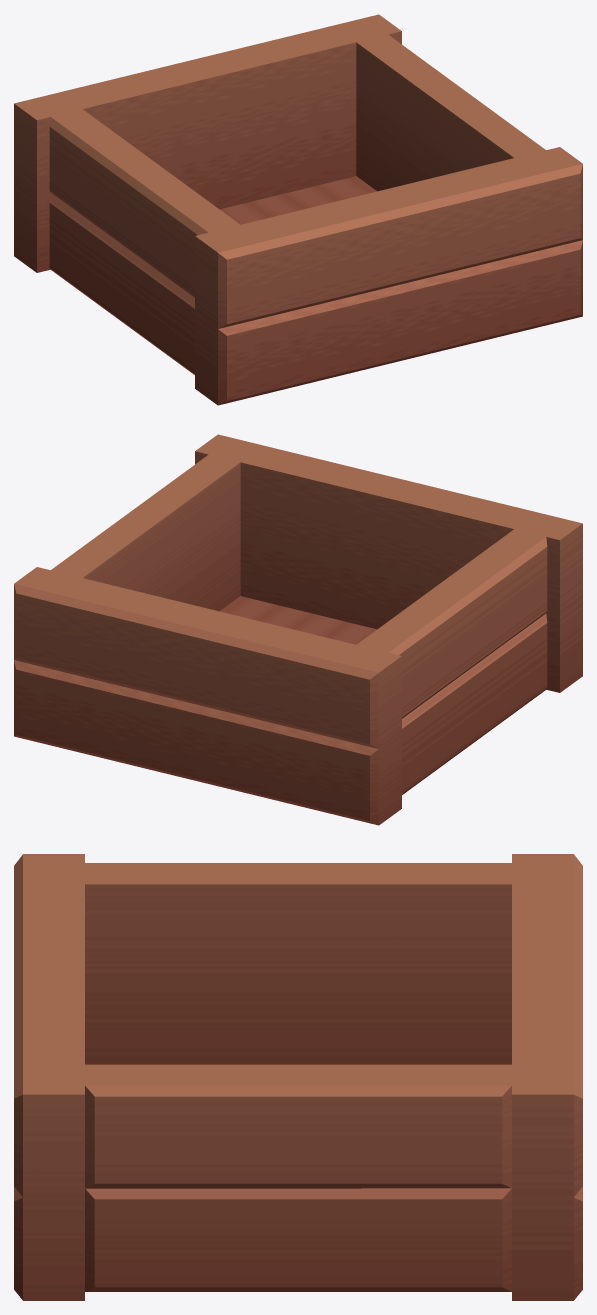
File: crate.gltf
3 renders of one model, top to bottom at view 1: azimuth 30°, elevation 25°; view 2: azimuth 150°, elevation 25°; view 3: azimuth 270°, elevation 25°, orthographic. The views are drawn at different scales.
Visible parts, largest first — view 1: crate; view 2: crate; view 3: crate.
Boxes of the visible parts, <box> form: crate: <box>14,14,582,405</box>; crate: <box>14,434,582,825</box>; crate: <box>14,854,582,1300</box>.
Bounding box in the file's own units: 2 × 0.8 × 2.
Materials: 1 (1 with a texture image).
